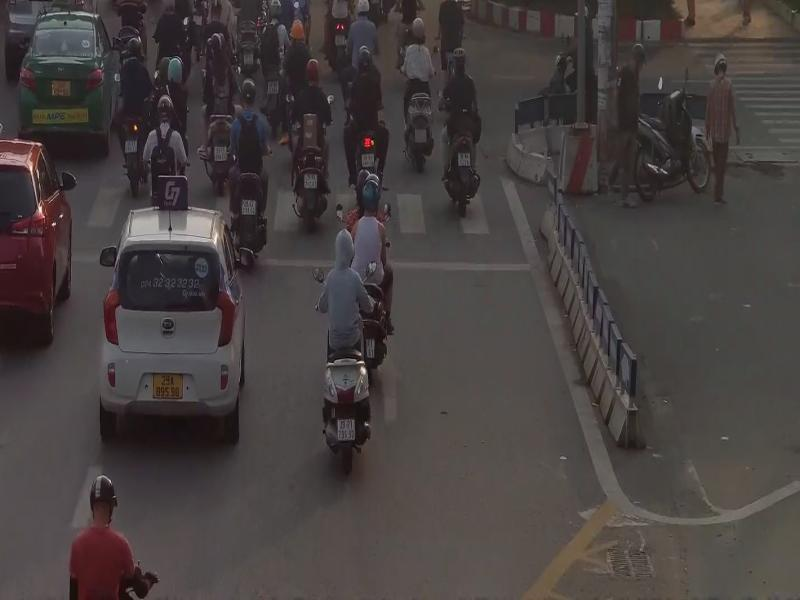helmet: (90, 474, 118, 508), (362, 180, 380, 210), (157, 94, 174, 123), (168, 56, 184, 84), (240, 77, 257, 101), (357, 46, 373, 70), (306, 57, 321, 81), (210, 32, 226, 54), (632, 43, 646, 68), (127, 38, 143, 58), (290, 20, 306, 40), (158, 56, 172, 78), (412, 16, 425, 38), (714, 52, 727, 74), (356, 0, 370, 14), (453, 47, 466, 62)
license_plate: (153, 372, 184, 400), (51, 77, 72, 99), (337, 417, 356, 441), (241, 198, 257, 216), (303, 172, 318, 189), (123, 138, 138, 154), (213, 145, 227, 162), (414, 127, 428, 144), (457, 152, 471, 167), (361, 154, 375, 168), (267, 80, 279, 94)
motorcyclist: (314, 228, 378, 476), (66, 473, 159, 600), (342, 169, 393, 388), (287, 57, 335, 230), (228, 77, 273, 259), (438, 47, 482, 218), (112, 37, 154, 197), (399, 16, 442, 172), (343, 46, 390, 187), (199, 31, 238, 197), (260, 0, 289, 137)
